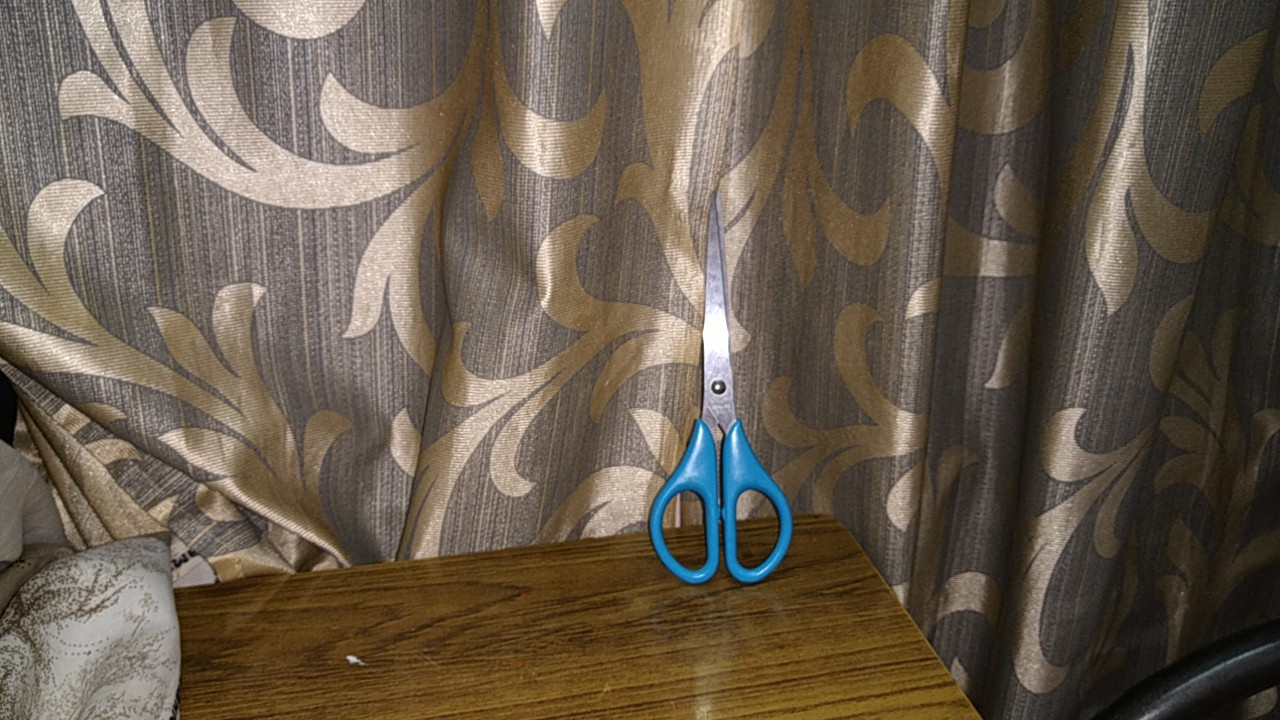scissor: (640, 181, 802, 594)
